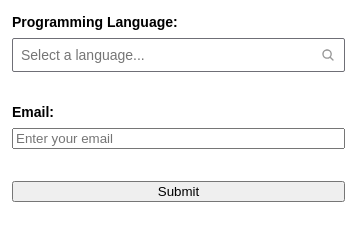
Test: AutocompleteForm › validates required fields
Step 1. Click the button "Submit" → click(178, 192), box [12,181,345,202]
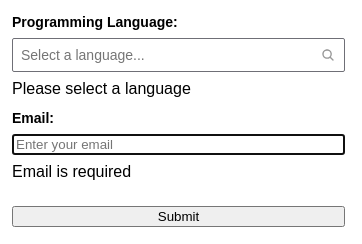
Now the text "Please select a language" is shown, box [12,80,191,97]
Now the text "Email is required" is shown, box [12,163,131,180]
